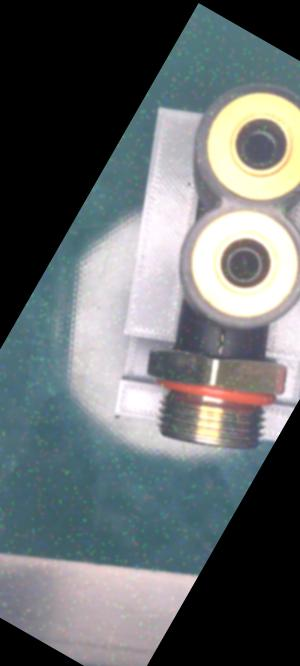craze: (207, 325, 235, 362)
